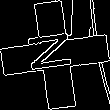N_E: (27, 31, 83, 79)
